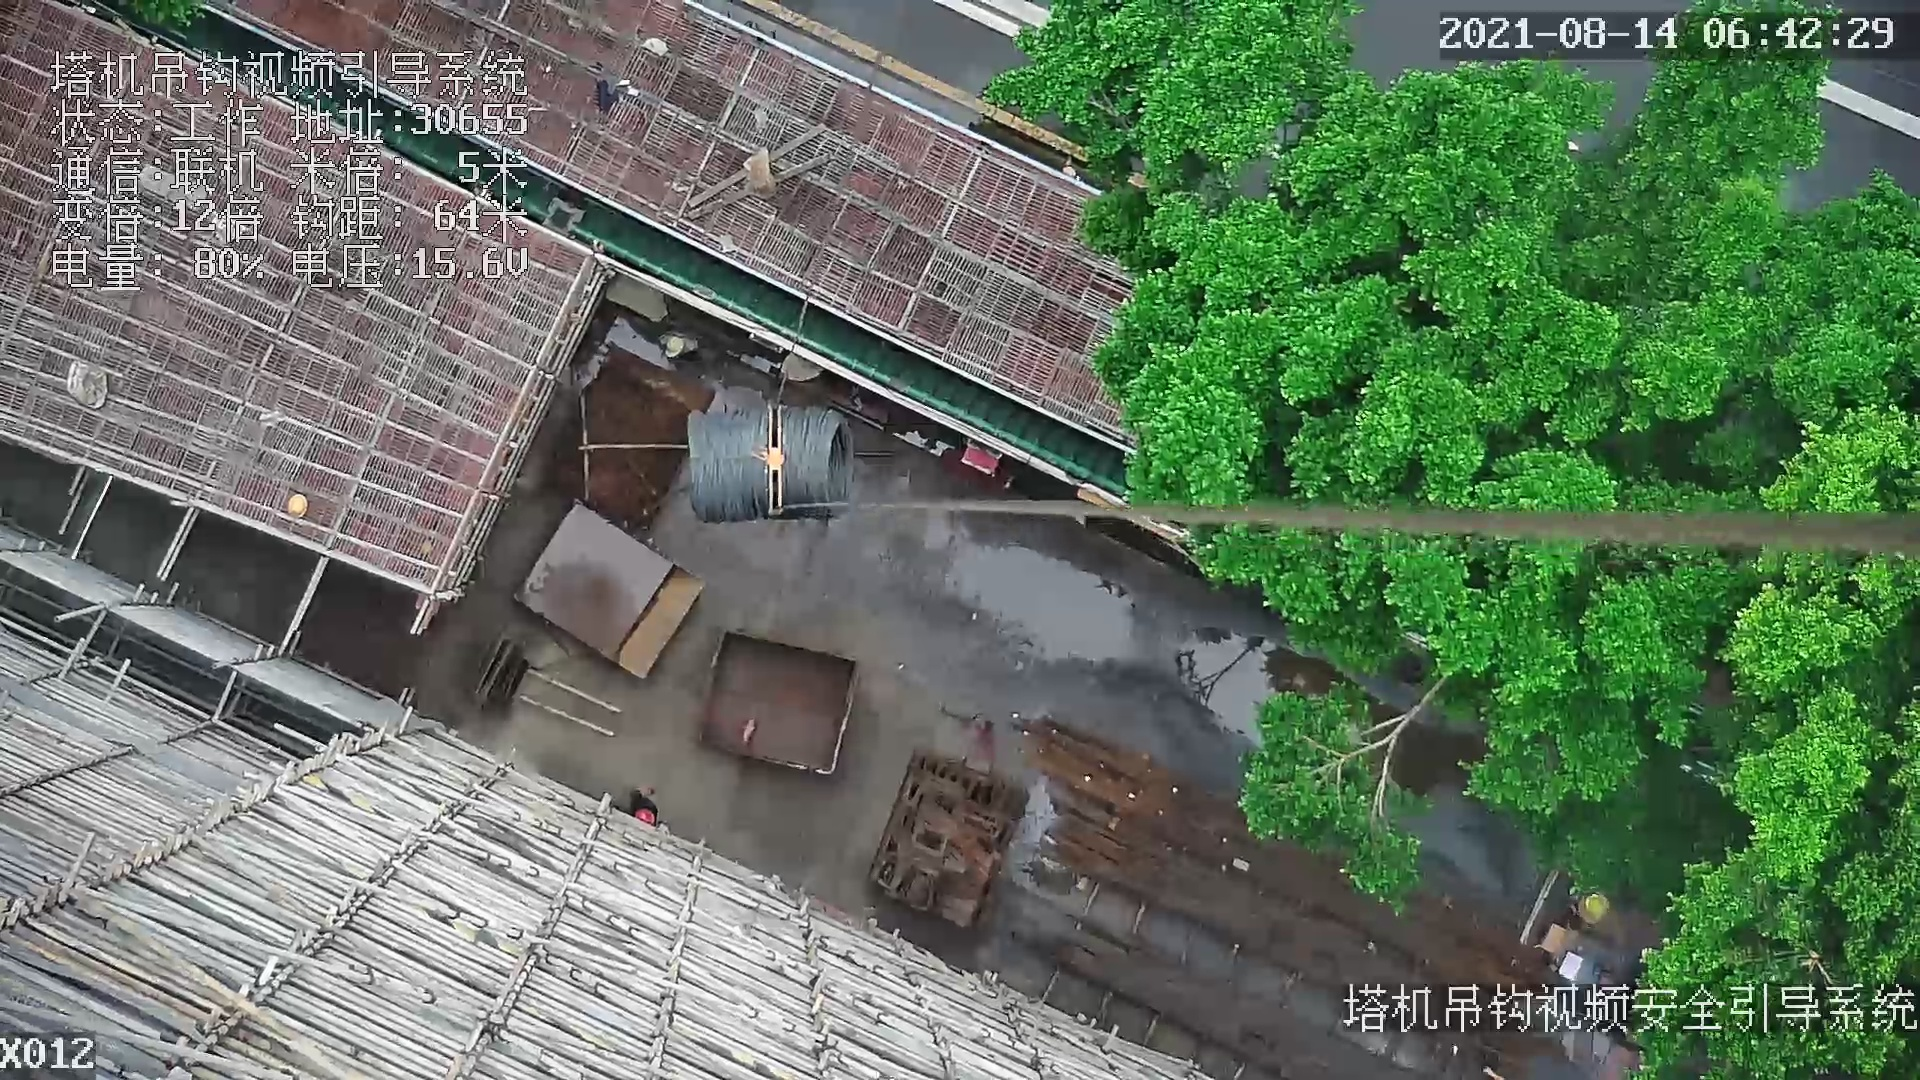helmet: (1589, 894, 1608, 917), (665, 337, 683, 359), (637, 812, 656, 830)
hook: (749, 401, 787, 518)
person: (1569, 880, 1612, 930), (627, 789, 673, 828), (659, 327, 703, 367)
